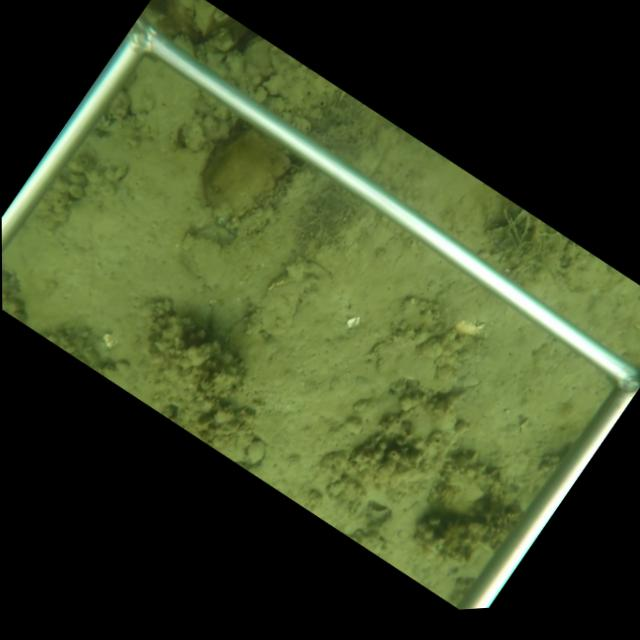Oyster-Closed: (201, 125, 291, 221)
Oyster-Indeterminate: (253, 277, 313, 338), (285, 260, 337, 294)
